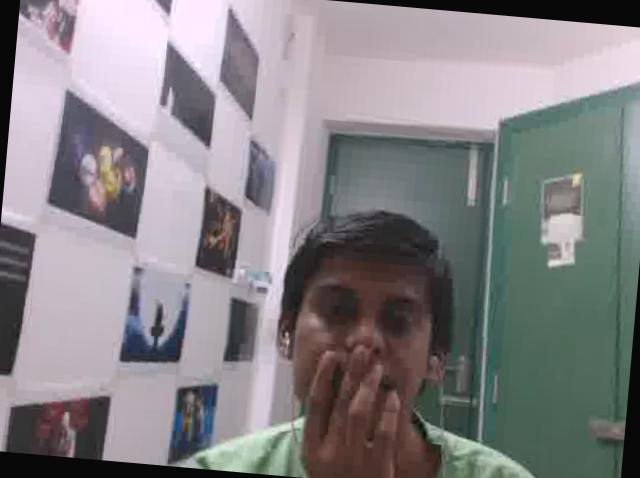bosan: (284, 242, 434, 431)
